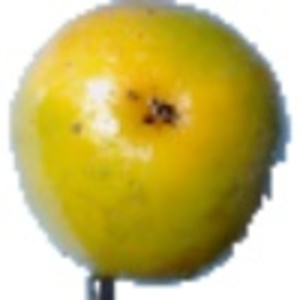maracujá: (9, 1, 293, 300)
